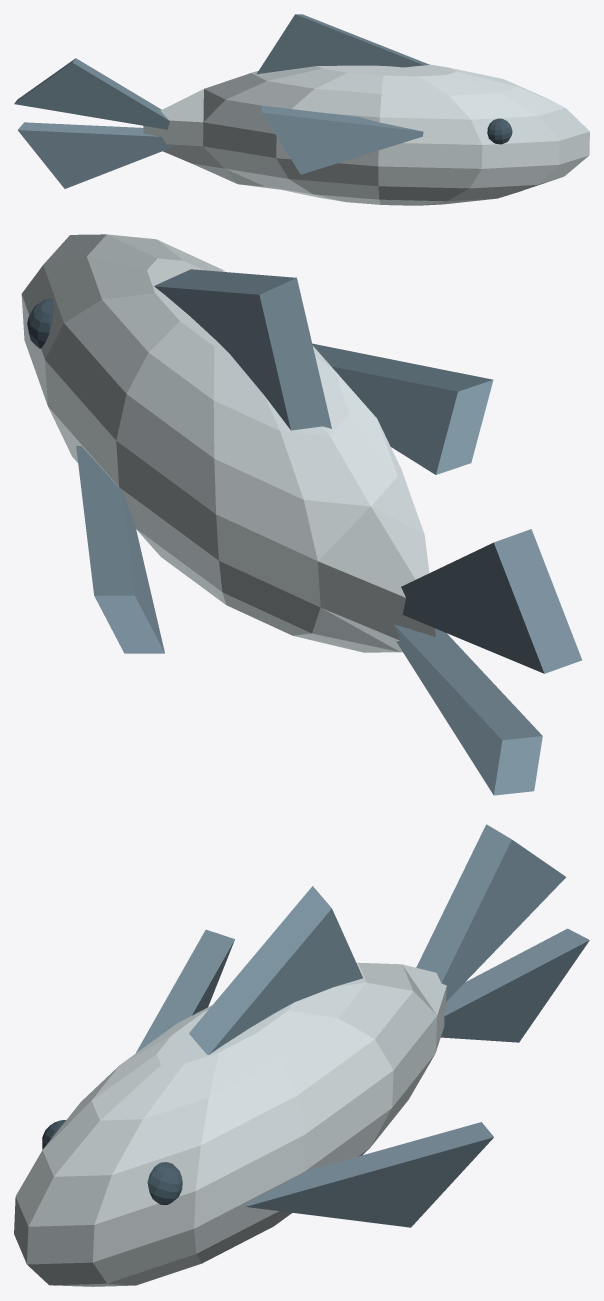
The model's file is group1309263615_lev3.glb.
3 renders of one model, top to bottom at view 1: azimuth 30°, elevation 25°; view 2: azimuth 150°, elevation 25°; view 3: azimuth 270°, elevation 25°, orthographic. The views are drawn at different scales.
Visible parts, largest first — view 1: group1309263615_lev3; view 2: group1309263615_lev3; view 3: group1309263615_lev3.
Boxes of the visible parts, x1,y1,x2,y2 form: group1309263615_lev3: [14, 14, 589, 205]; group1309263615_lev3: [21, 234, 581, 795]; group1309263615_lev3: [14, 824, 589, 1286].
Size of the model in its own units: 0.7433 by 0.3067 by 0.5349.
